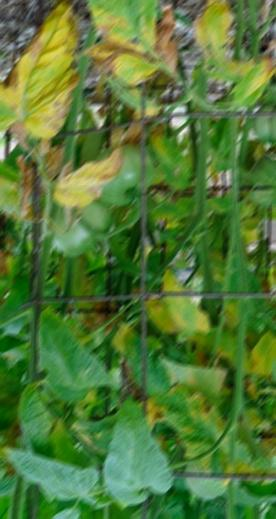Tomato Early blight leaf: (11, 7, 79, 142), (190, 0, 276, 105), (88, 0, 178, 84), (57, 134, 129, 212), (162, 270, 212, 334), (248, 331, 276, 382)
Tomato leaf: (105, 391, 171, 504), (37, 312, 106, 407), (8, 455, 98, 501)
